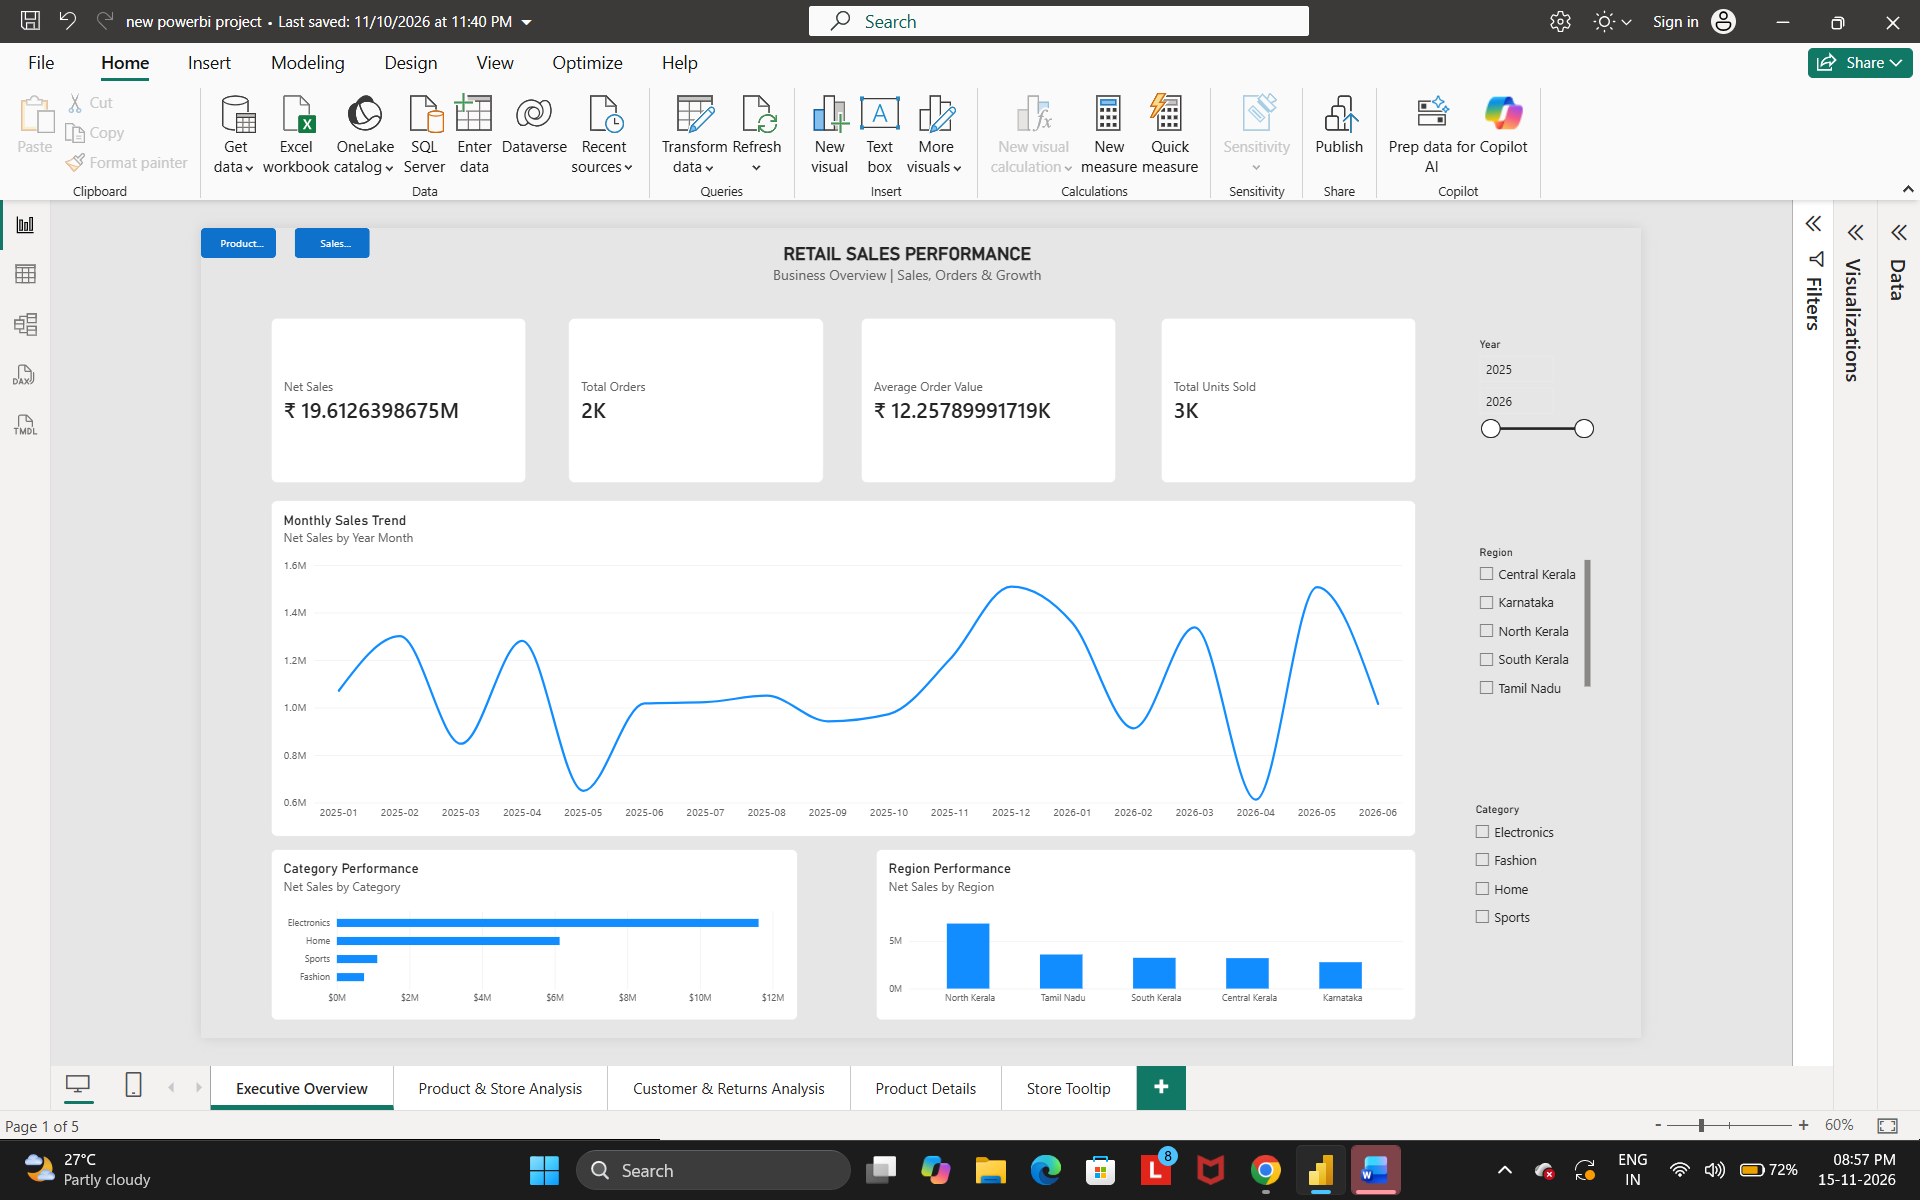

This screenshot's page, from the dashboard's own definition file:
{"tool":"powerbi","page":{"name":"Executive Overview","canvas":[1920,1080],"ordinal":0},"visuals":[{"type":"cardVisual","fields":{"Data":["Sales.Net Sales"]},"box":[94,120,340,220],"z":0},{"type":"cardVisual","fields":{"Data":["Sales.Total Orders"]},"box":[490,120,340,220],"z":1000},{"type":"cardVisual","fields":{"Data":["Sales.Total Units Sold"]},"box":[1280,120,340,220],"z":2000},{"type":"cardVisual","fields":{"Data":["Sales.Average Order Value"]},"box":[880,120,340,220],"z":3000},{"type":"textbox","title":"RETAIL SALES PERFORMANCE","box":[696,20,490,56],"z":4000},{"type":"clusteredBarChart","title":"Category Performance","fields":{"Category":["Products.Category"],"Y":["Sales.Net Sales"]},"box":[94,828,702,228],"z":5000},{"type":"clusteredColumnChart","title":"Region Performance","fields":{"Category":["Stores.Region"],"Y":["Sales.Net Sales"]},"box":[900,828,720,228],"z":6000},{"type":"lineChart","title":"Monthly Sales Trend","fields":{"Category":["Date Table.Year Month"],"Y":["Sales.Net Sales"]},"box":[94,364,1526,448],"z":7000},{"type":"slicer","fields":{"Values":["Products.Category"]},"box":[1692,766,160,228],"z":8000},{"type":"slicer","fields":{"Values":["Stores.Region"]},"box":[1696,424,156,200],"z":9000},{"type":"slicer","fields":{"Values":["Date Table.Year"]},"box":[1696,146,164,170],"z":10000},{"type":"actionButton","box":[0,0,100,40],"z":11000},{"type":"actionButton","box":[124.3,0,100,40],"z":12000}]}

Visuals, with their boxes on the page's 1920x1080 design canvas (x1, y1, x2, y2). These are canvas units, not pixel positions in the 1920x1200 screenshot, which may show the page scaled, cropped or inside an application window:
cardVisual - Sales.Net Sales: bbox=[94, 120, 434, 340]
cardVisual - Sales.Total Orders: bbox=[490, 120, 830, 340]
cardVisual - Sales.Total Units Sold: bbox=[1280, 120, 1620, 340]
cardVisual - Sales.Average Order Value: bbox=[880, 120, 1220, 340]
"RETAIL SALES PERFORMANCE" textbox: bbox=[696, 20, 1186, 76]
"Category Performance" clusteredBarChart: bbox=[94, 828, 796, 1056]
"Region Performance" clusteredColumnChart: bbox=[900, 828, 1620, 1056]
"Monthly Sales Trend" lineChart: bbox=[94, 364, 1620, 812]
slicer - Products.Category: bbox=[1692, 766, 1852, 994]
slicer - Stores.Region: bbox=[1696, 424, 1852, 624]
slicer - Date Table.Year: bbox=[1696, 146, 1860, 316]
actionButton: bbox=[0, 0, 100, 40]
actionButton: bbox=[124, 0, 224, 40]
